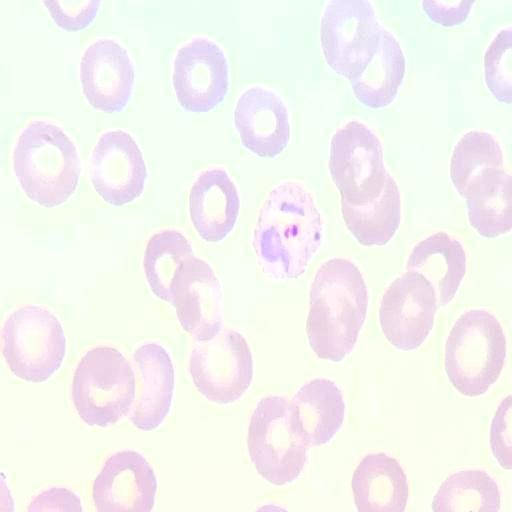Infected: (253, 180, 325, 279)
Uninfected: (320, 0, 403, 107), (329, 119, 400, 244), (449, 129, 511, 232), (306, 257, 366, 361), (12, 117, 79, 205), (247, 394, 312, 484), (70, 344, 136, 428), (443, 309, 504, 395), (1, 304, 65, 382), (405, 232, 466, 311), (188, 327, 252, 402), (169, 258, 225, 342), (379, 271, 436, 351), (171, 36, 229, 111), (89, 129, 145, 204), (143, 229, 197, 306), (80, 37, 134, 112), (128, 343, 175, 429), (236, 86, 291, 157), (92, 450, 155, 511), (188, 168, 239, 242), (292, 377, 344, 447), (351, 453, 407, 511)
